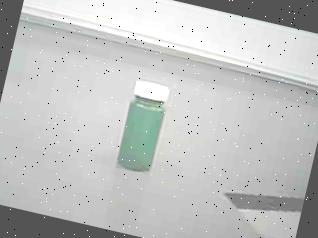Bottle C: (104, 69, 188, 184)
